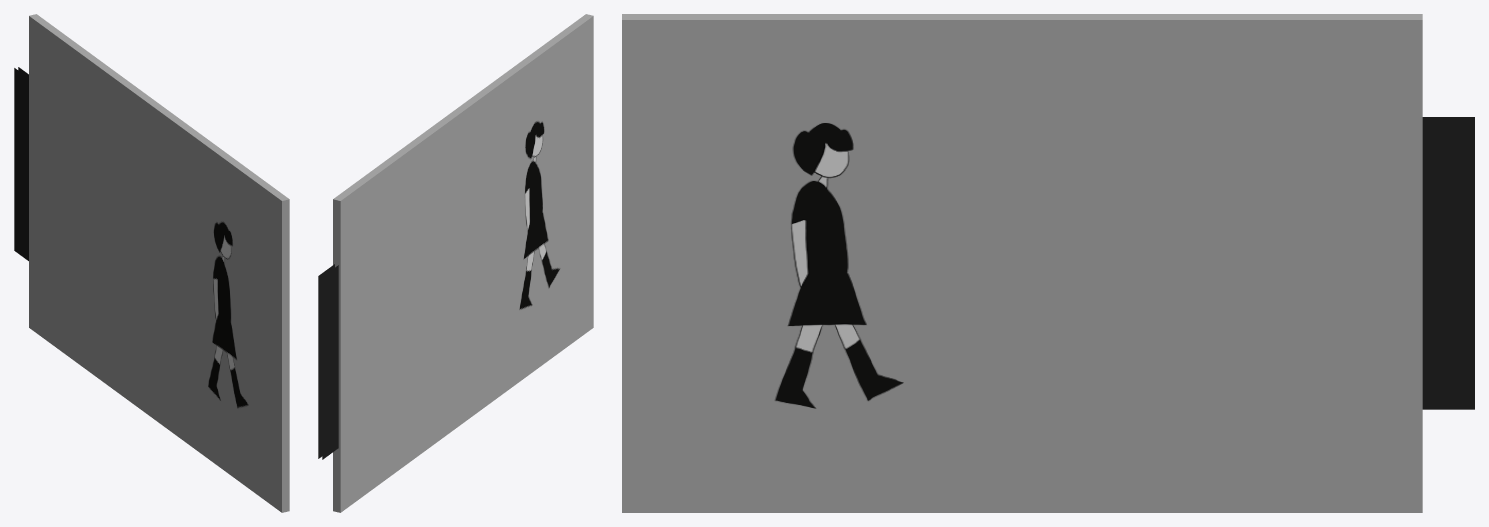
The model's file is sign_Womanan.fbx.
3 renders of one model, left to right at view 1: azimuth 30°, elevation 25°; view 2: azimuth 150°, elevation 25°; view 3: azimuth 270°, elevation 25°, orthographic. The views are drawn at different scales.
Visible parts, largest first — view 1: Cube; view 2: Cube; view 3: Cube.
Part boxes in pixels (box(x1,y1,x2,y2)): Cube: box(14, 14, 289, 512); Cube: box(318, 14, 593, 512); Cube: box(622, 14, 1474, 512).
Size of the model in its own units: 2.6 by 102 by 160.
Materials: 2 (2 with a texture image).
